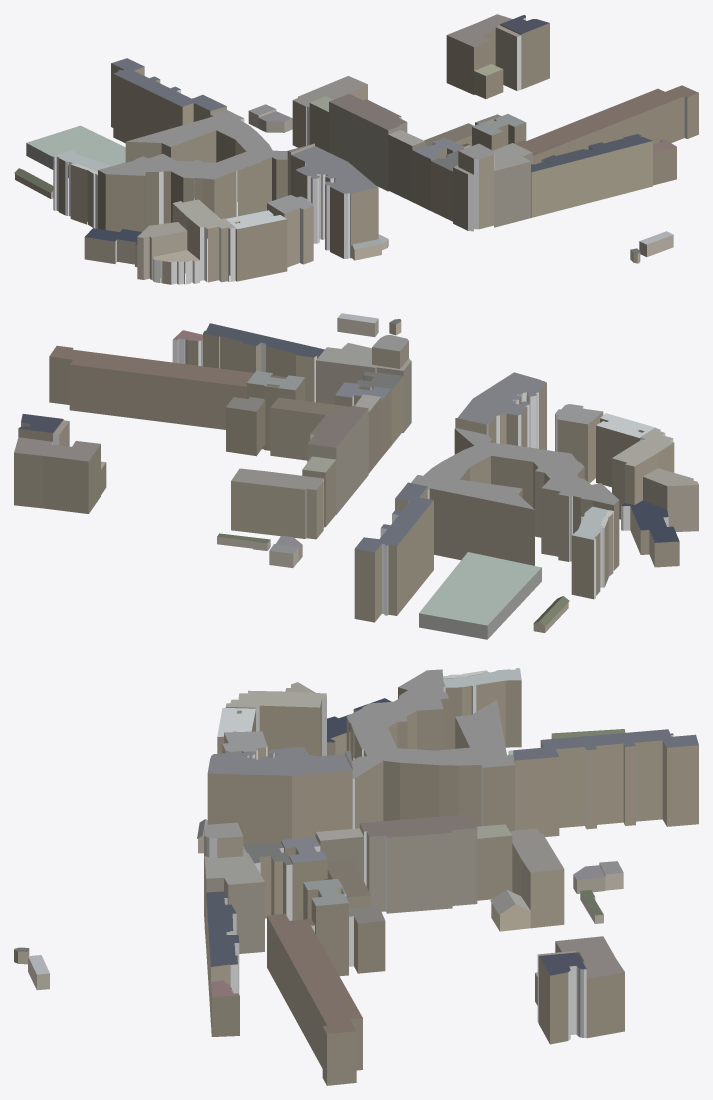
3 renders of one model, top to bottom at view 1: azimuth 30°, elevation 25°; view 2: azimuth 150°, elevation 25°; view 3: azimuth 270°, elevation 25°, orthographic. The views are drawn at different scales.
Visible parts, largest first — view 1: tuile; view 2: tuile; view 3: tuile.
Boxes of the visible parts, left/top/right/bottom form: tuile: left=14, top=14, right=698, bottom=284; tuile: left=14, top=313, right=698, bottom=639; tuile: left=14, top=668, right=698, bottom=1085.
Bounding box in the file's own units: 306 × 38.46 × 248.
